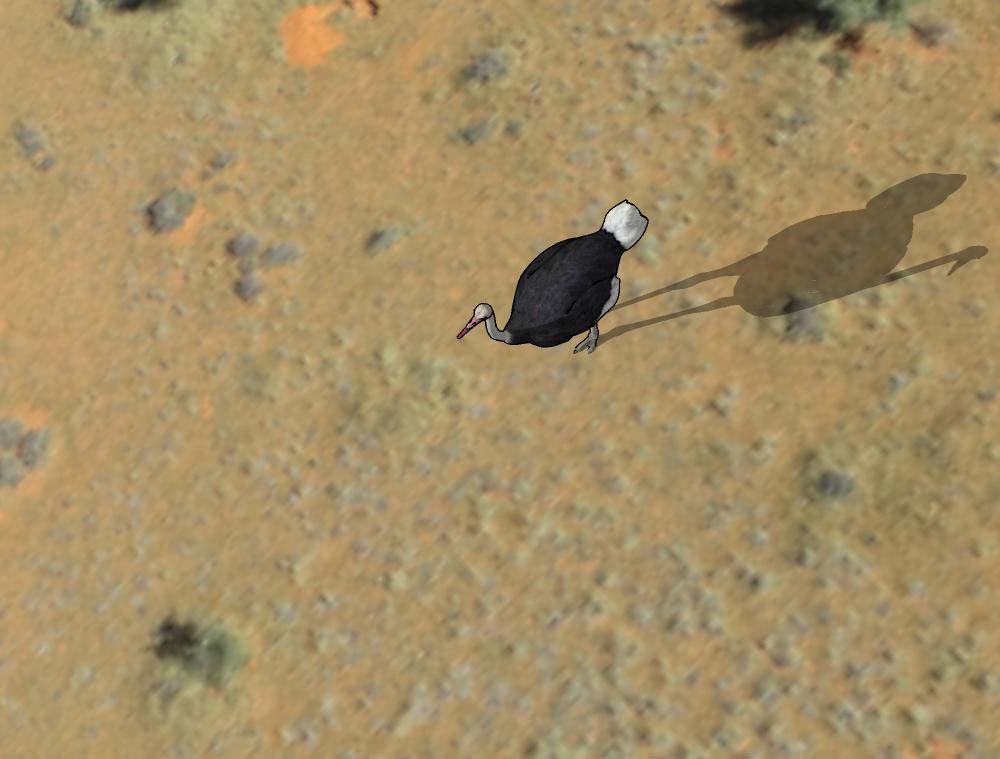springbok: (455, 189, 653, 372)
